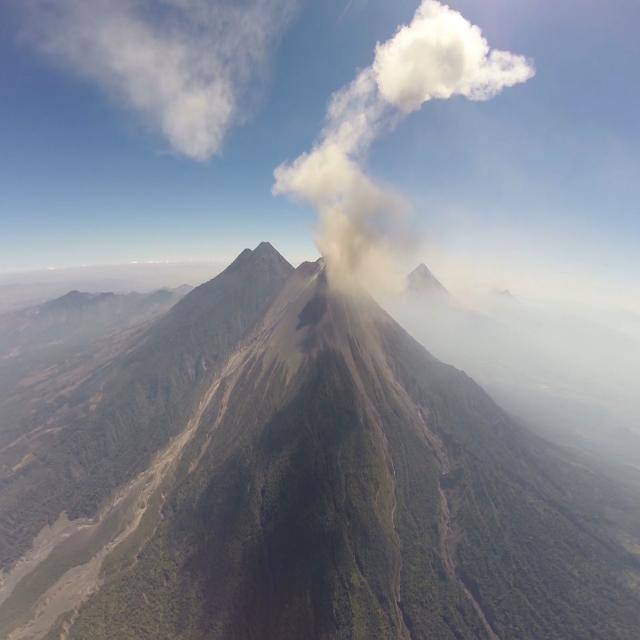Plume: (11, 0, 293, 170), (273, 128, 418, 302), (369, 2, 543, 106)
